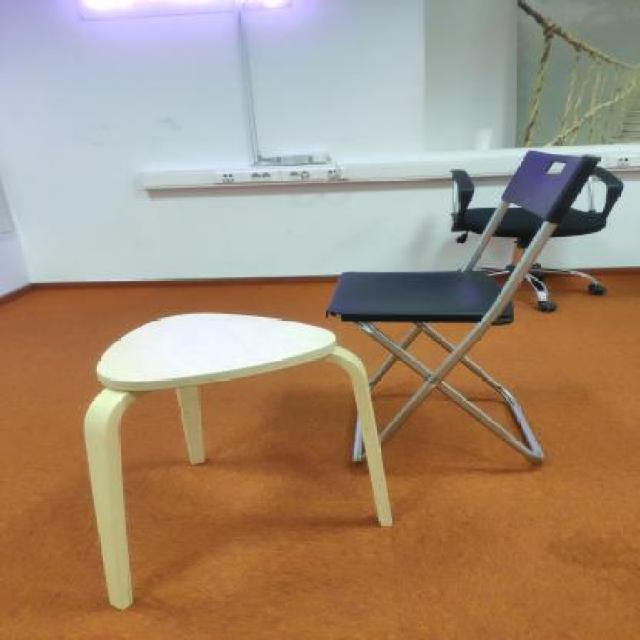chair: (322, 146, 603, 472)
